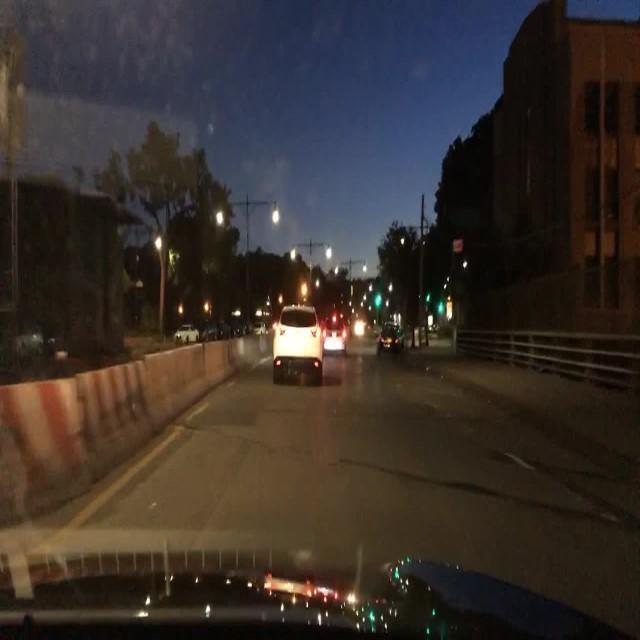normal: (272, 303, 324, 382)
